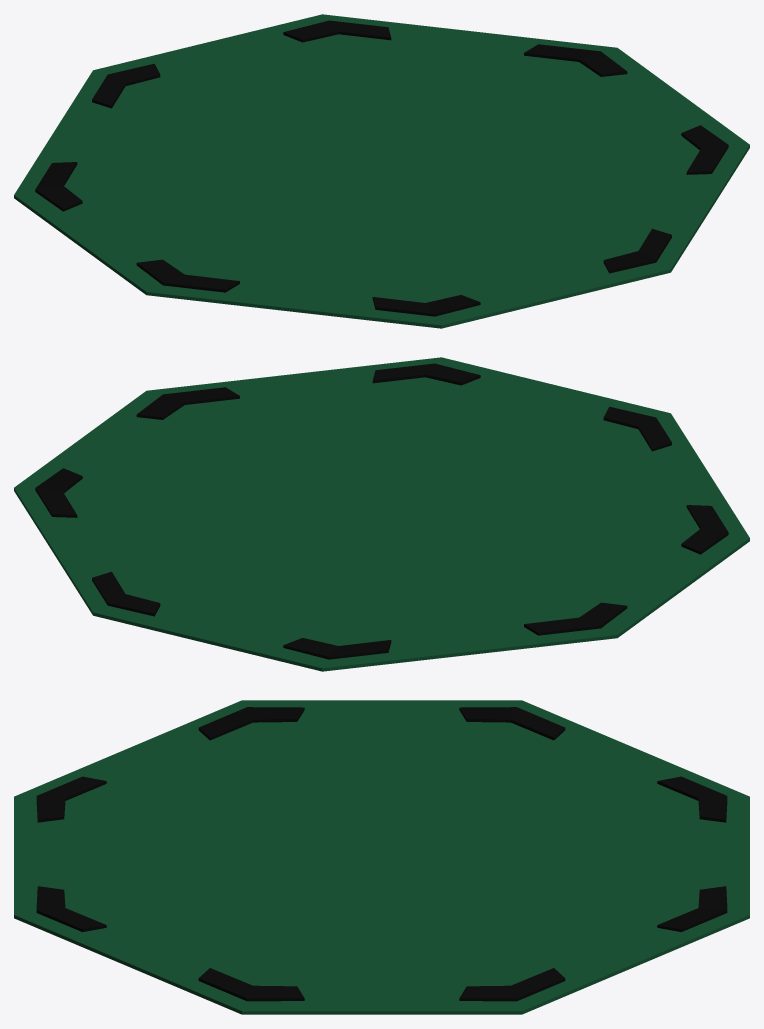
Rendered from table.gltf.
3 views of the same model, one above another, from view 1: azimuth 30°, elevation 25°; view 2: azimuth 150°, elevation 25°; view 3: azimuth 270°, elevation 25° (orthographic). The views are drawn at different scales.
Parts seen in each view (by area): view 1: Cube; view 2: Cube; view 3: Cube.
Part boxes in pixels (<box>): Cube: <box>14,14,749,328</box>; Cube: <box>14,357,749,671</box>; Cube: <box>14,700,749,1014</box>.
Size of the model in its own units: 96 by 0.9373 by 96.
